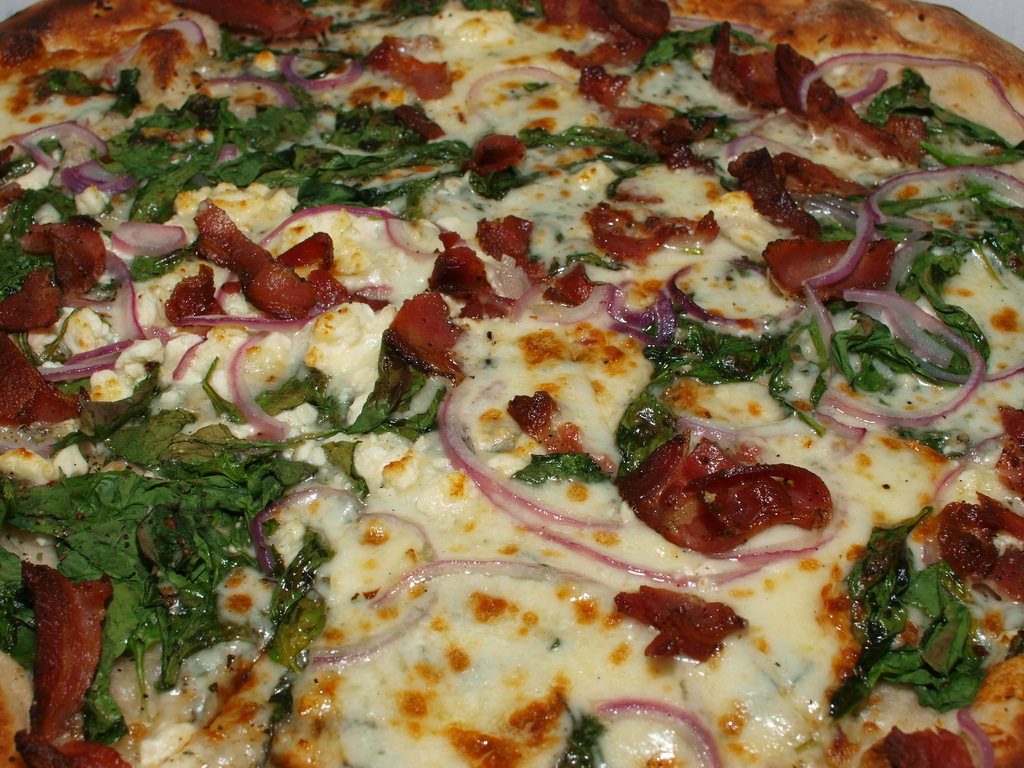Pizza: (5, 1, 1021, 767)
